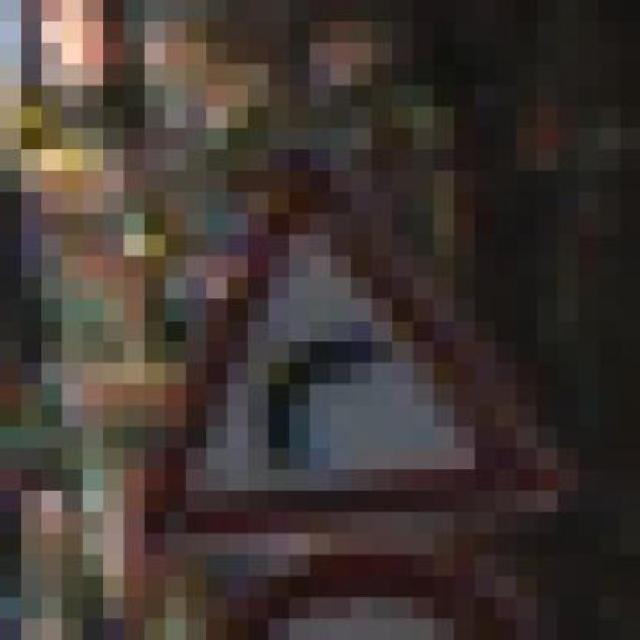Dangerous Rright Curve Ahead: (124, 170, 558, 576)
